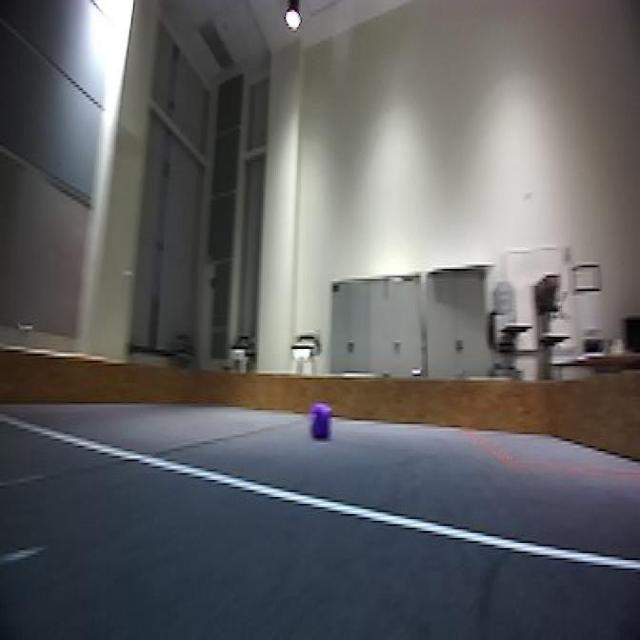frc_cube: (310, 400, 334, 441)
